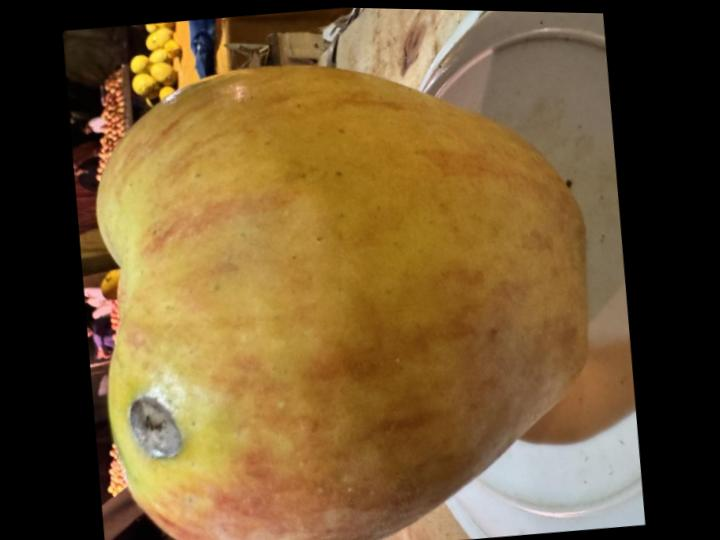apple: (98, 66, 587, 540)
rot_mold_decay: (130, 395, 182, 456)
